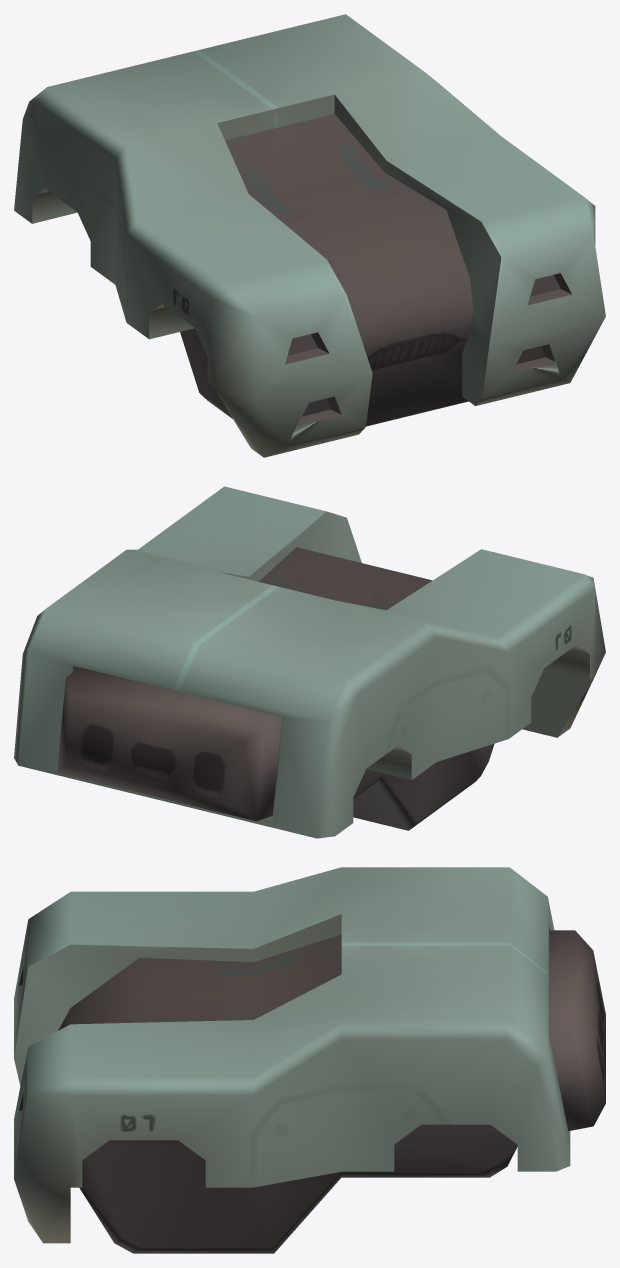
The model's file is body.obj.
3 views of the same model, one above another, from view 1: azimuth 30°, elevation 25°; view 2: azimuth 150°, elevation 25°; view 3: azimuth 270°, elevation 25° (orthographic). The views are drawn at different scales.
Visible parts, largest first — view 1: Cube.001; view 2: Cube.001; view 3: Cube.001.
Part boxes in pixels (x1,y1,x2,y2): Cube.001: (14, 14, 605, 457); Cube.001: (14, 486, 605, 838); Cube.001: (14, 867, 605, 1253).
Bounding box in the file's own units: 1.19 × 0.7247 × 1.51.
Materials: 1 (1 with a texture image).
